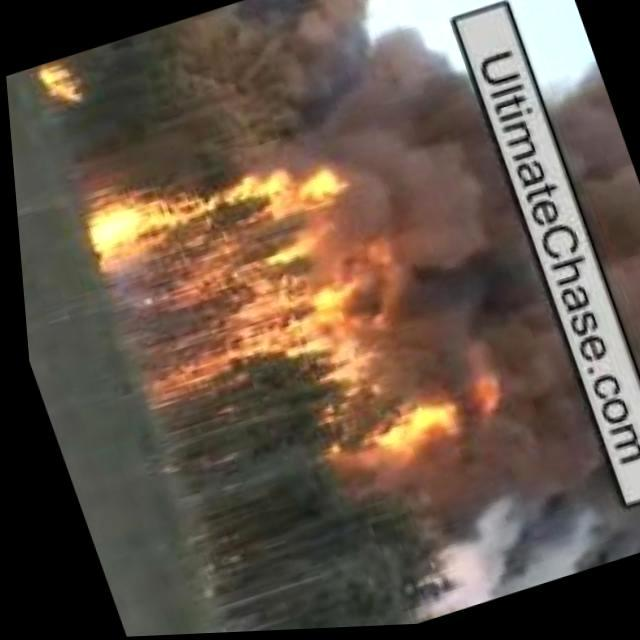fire: (68, 114, 416, 418), (304, 367, 524, 497), (26, 54, 88, 126)
